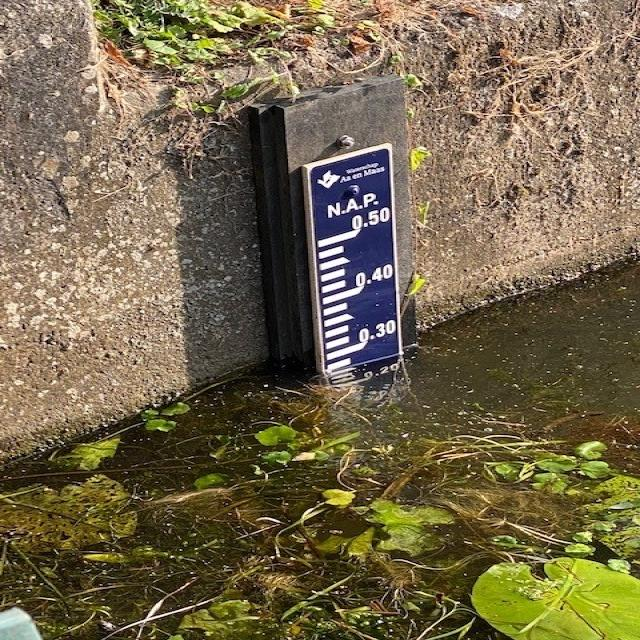30: (376, 317, 395, 339)
40: (371, 260, 394, 282)
50: (369, 208, 388, 225)
staff: (298, 143, 399, 373)
